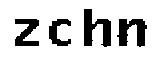c: (45, 17, 73, 48)
h: (80, 7, 112, 48)
n: (115, 15, 148, 49)
z: (9, 15, 42, 49)
